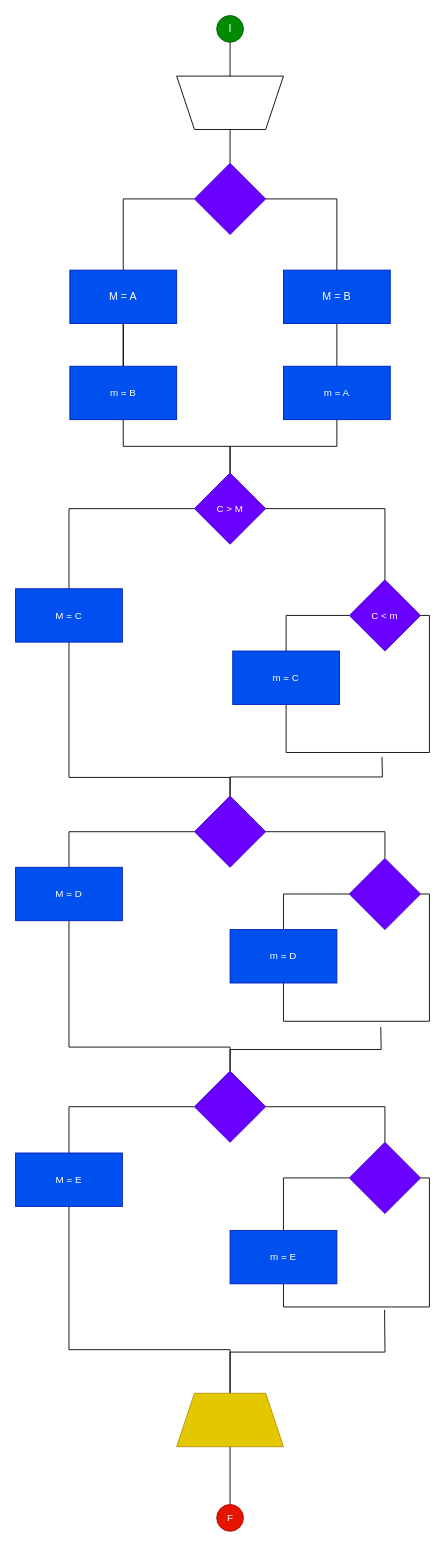
The diagram is 446 pixels wide and 1547 high, and some of its shapes have lost their labels. The shapes that lost their labels are listed below. From the top down, each one's centre as x and y in pixels, then its label:
pixel 229 102: A,B,C,D,E
pixel 230 198: A > B
pixel 230 831: D > M
pixel 384 894: D < m
pixel 230 1106: E > M
pixel 384 1177: E < m
pixel 229 1419: M , m
